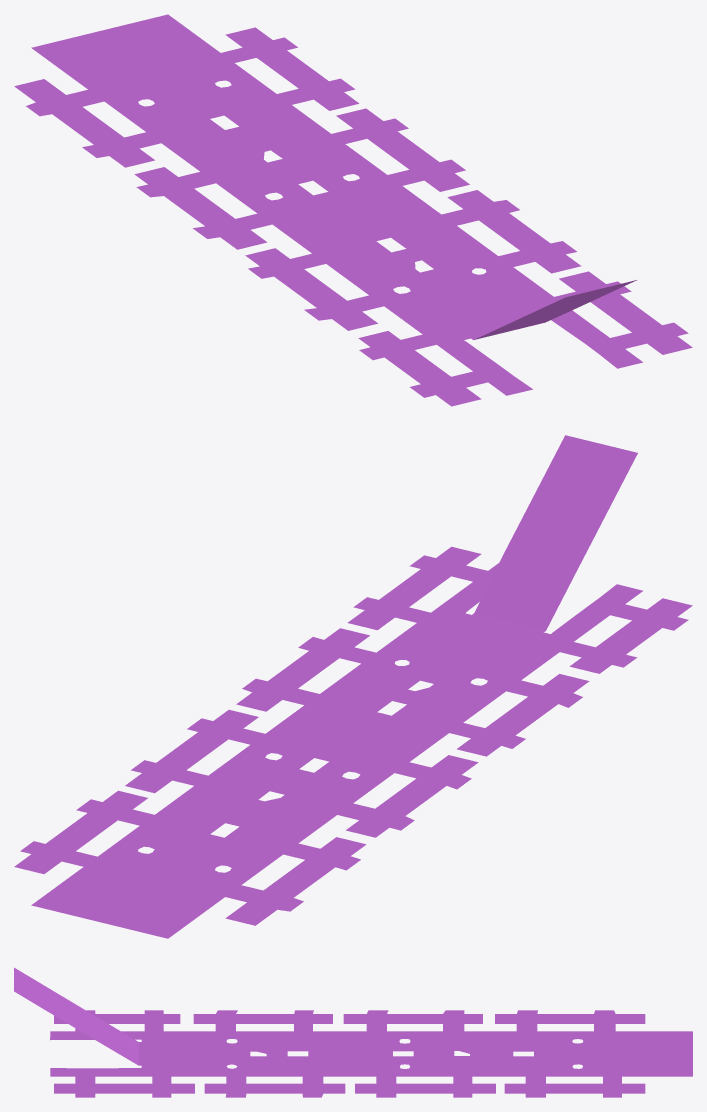
The model's file is MAP_Wave_01_Nav_Geo.fbx.
3 views of the same model, one above another, from view 1: azimuth 30°, elevation 25°; view 2: azimuth 150°, elevation 25°; view 3: azimuth 270°, elevation 25° (orthographic). The views are drawn at different scales.
Parts seen in each view (by area): view 1: Wave_01_Nav_Geo; view 2: Wave_01_Nav_Geo; view 3: Wave_01_Nav_Geo.
Part boxes in pixels (<box>): Wave_01_Nav_Geo: <box>14,14,692,406</box>; Wave_01_Nav_Geo: <box>14,435,692,938</box>; Wave_01_Nav_Geo: <box>14,967,692,1097</box>.
Size of the model in its own units: 695 by 277 by 2286.
